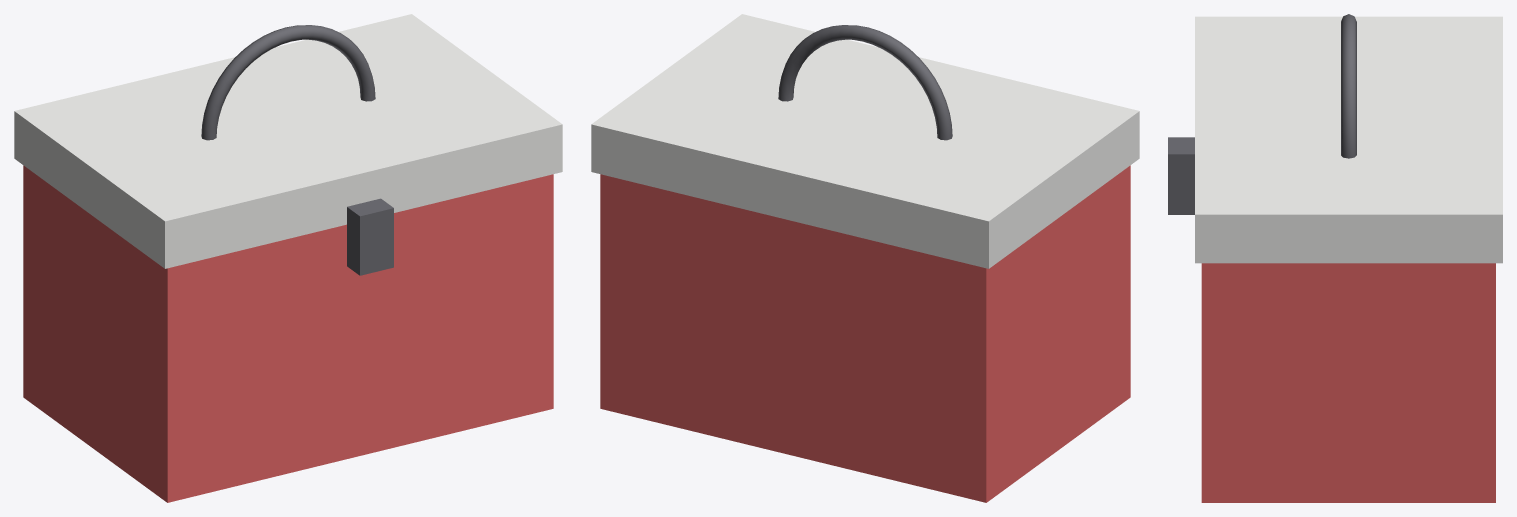
The model's file is cooler.glb.
3 renders of one model, left to right at view 1: azimuth 30°, elevation 25°; view 2: azimuth 150°, elevation 25°; view 3: azimuth 270°, elevation 25°, orthographic. The views are drawn at different scales.
Parts seen in each view (by area): view 1: cooler; view 2: cooler; view 3: cooler.
Boxes of the visible parts, bbox=[...] form: cooler: bbox=[14, 14, 562, 502]; cooler: bbox=[591, 14, 1139, 502]; cooler: bbox=[1168, 14, 1502, 502].
Bounding box in the file's own units: 0.35 × 0.316 × 0.25.
